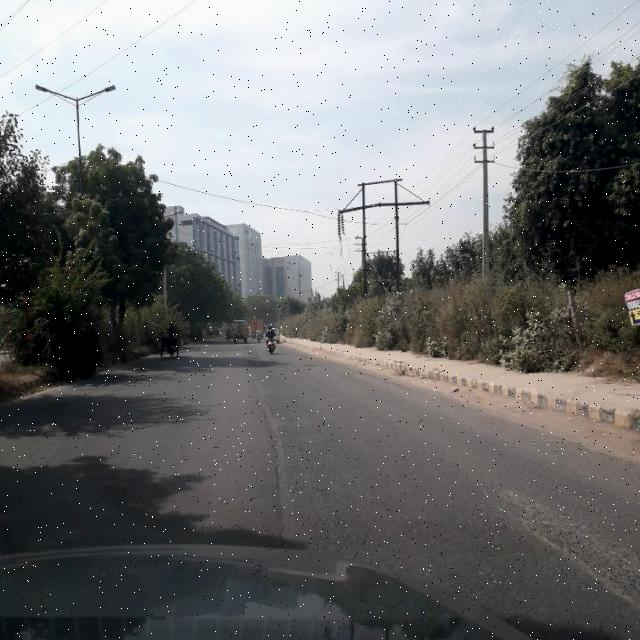D00: (252, 379, 290, 533)
